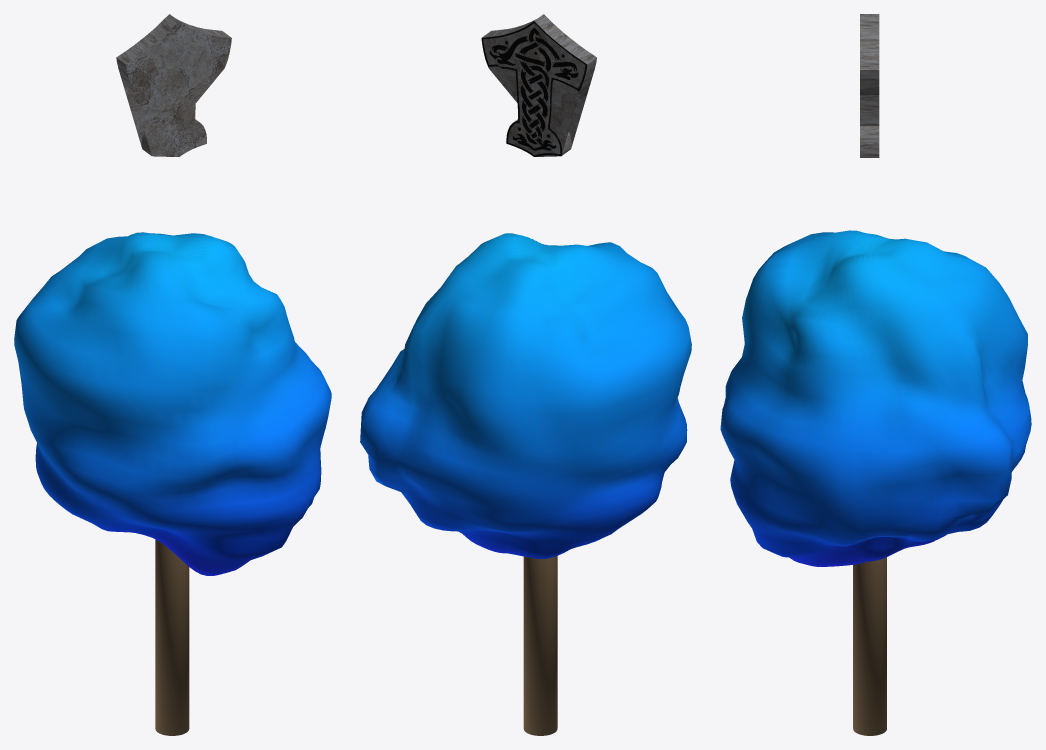
File: Thor Tree.fbx
The picture shows the model from 3 angles, left to right: view 1: azimuth 30°, elevation 25°; view 2: azimuth 150°, elevation 25°; view 3: azimuth 270°, elevation 25°; orthographic projection.
Visible parts, largest first — view 1: Sphere, Plane; view 2: Sphere, Plane; view 3: Sphere, Plane.
Boxes of the visible parts, x1,y1,x2,y2 form: Sphere: (14, 232, 331, 735); Plane: (116, 14, 231, 156); Sphere: (360, 233, 691, 735); Plane: (481, 14, 596, 156); Sphere: (720, 230, 1031, 735); Plane: (860, 14, 879, 157).
Size of the model in its own units: 364 by 914 by 360.
